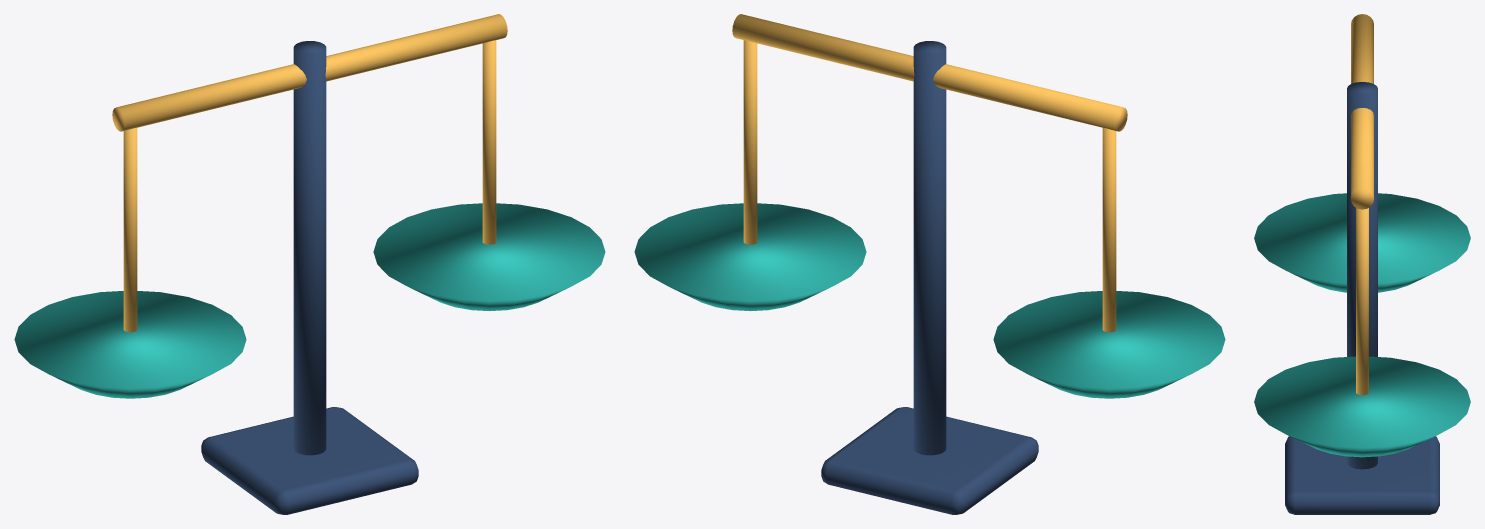
Rendered from balance-scale-lite.glb.
3 renders of one model, left to right at view 1: azimuth 30°, elevation 25°; view 2: azimuth 150°, elevation 25°; view 3: azimuth 270°, elevation 25°, orthographic. The views are drawn at different scales.
Visible parts, largest first — view 1: Stand; view 2: Stand; view 3: Stand.
Boxes of the visible parts, x1,y1,x2,y2 form: Stand: [14, 14, 605, 514]; Stand: [634, 14, 1225, 514]; Stand: [1254, 14, 1470, 514].
Size of the model in its own units: 2.34 by 1.7 by 0.84.
